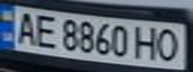0: (109, 22, 133, 58)
6: (93, 21, 115, 56)
8: (57, 17, 81, 52), (75, 19, 96, 55)
A: (9, 9, 39, 45)
E: (30, 12, 60, 48)
H: (133, 24, 163, 61)
O: (154, 26, 184, 63)
